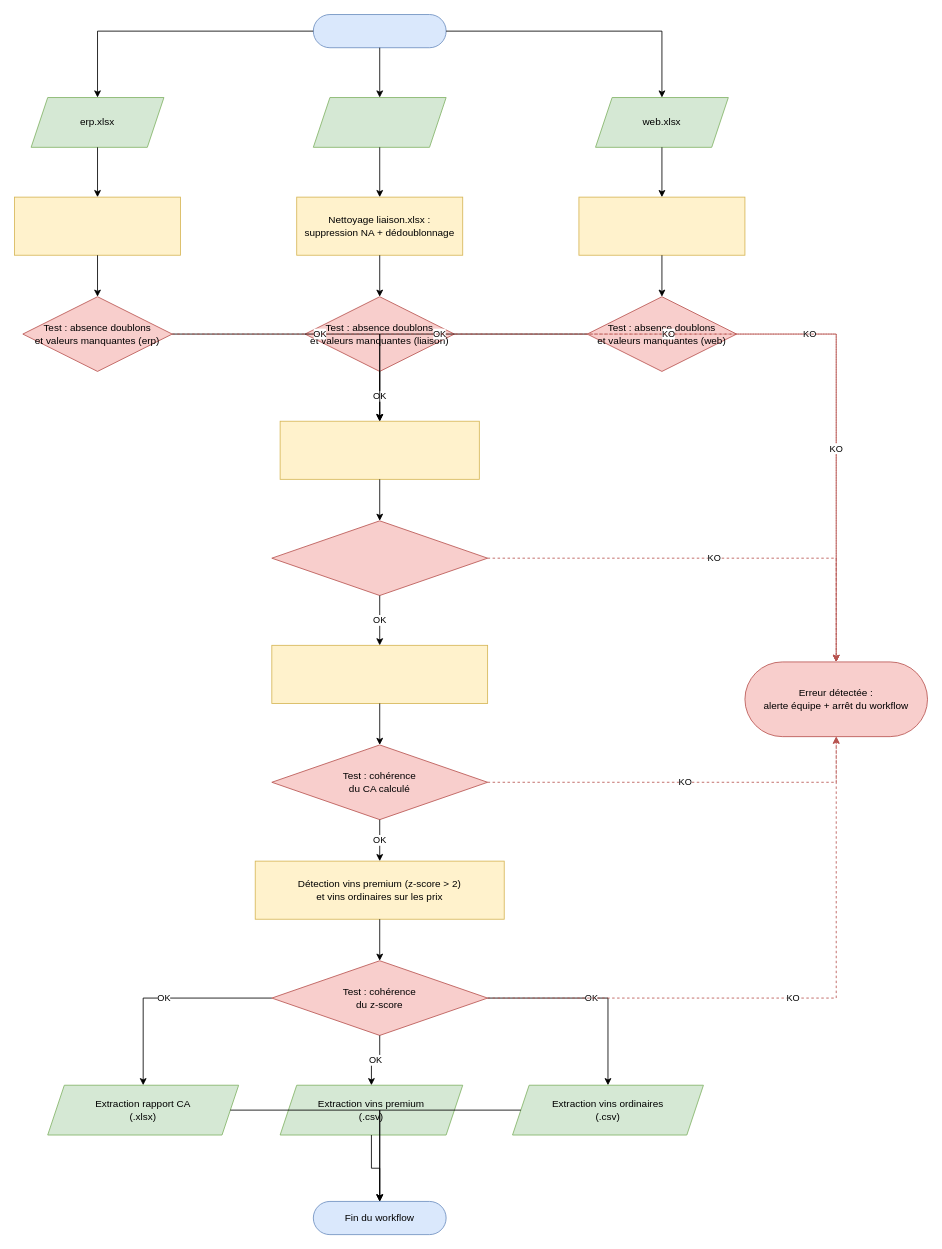
Image size: 942x1249. Some labels were removed from this diagram. Here are the shapes that lost their labels. From the top down, the centre of each, then its label:
At point 379,31: "Début du workflow".
At point 379,122: "liaison.xlsx".
At point 97,225: "Nettoyage erp.xlsx : suppression NA + dédoublonnage".
At point 661,225: "Nettoyage web.xlsx : suppression NA + dédoublonnage".
At point 379,449: "Jointure erp + web via liaison.xlsx".
At point 379,558: "Test : cohérence de la volumétrie après jointure".
At point 379,673: "Calcul du CA par produit et du CA total (données fusionnées)".
